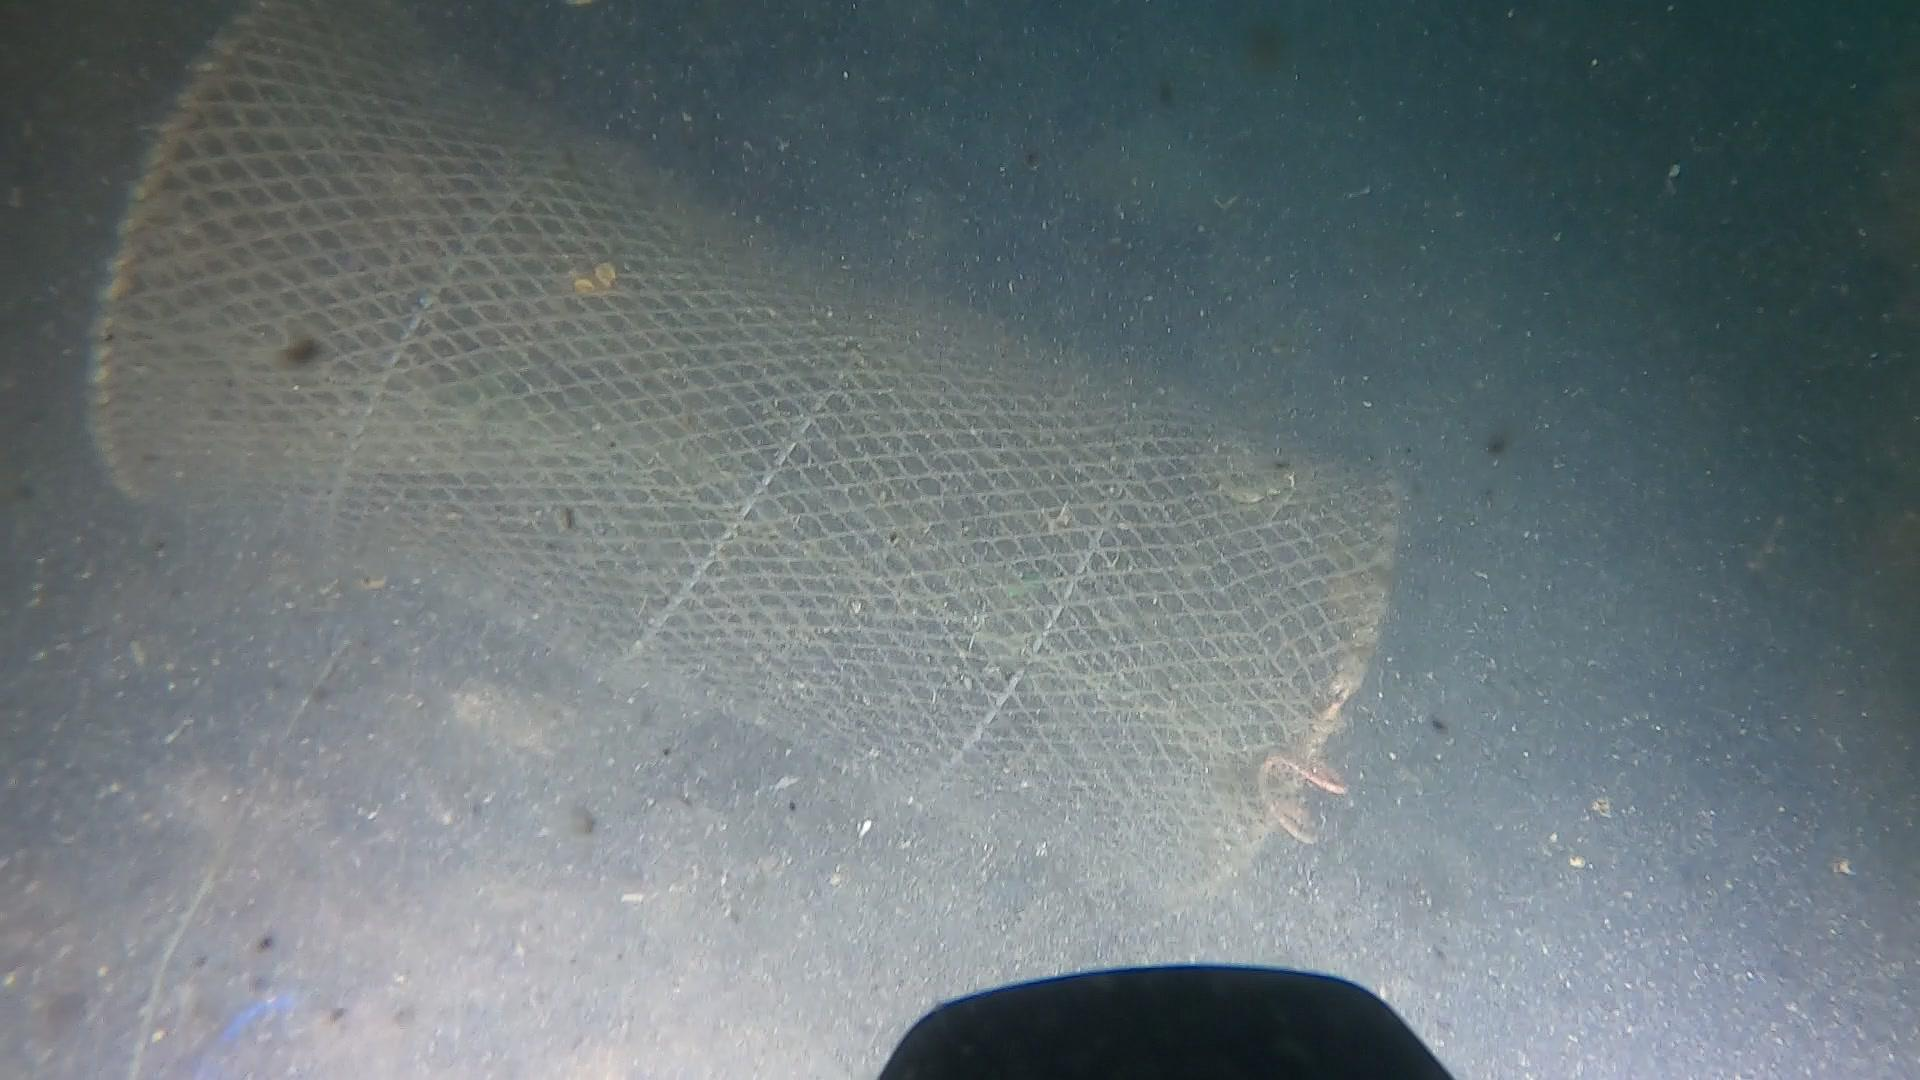spring fish trap: (73, 9, 1400, 930)
